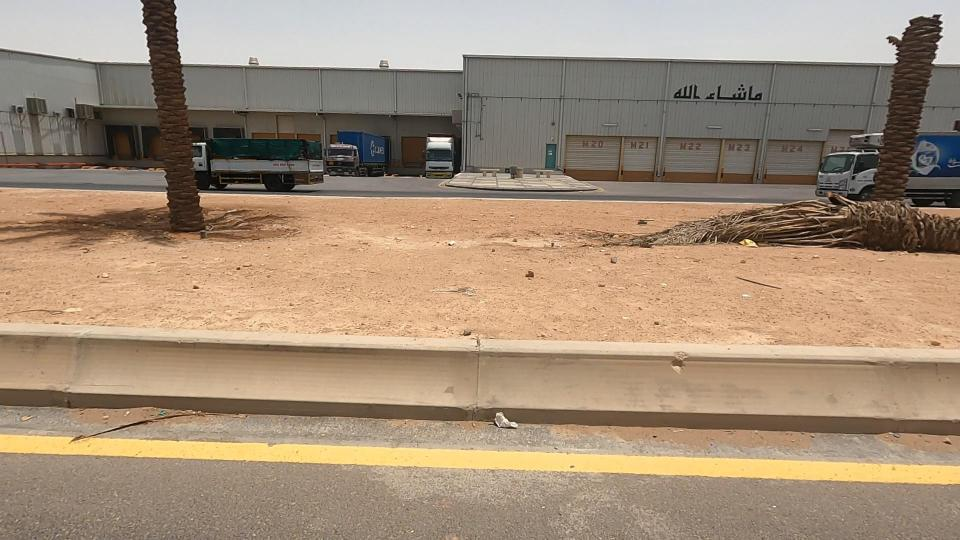CLUTTER_SIDEWALK: (109, 138, 960, 398), (0, 146, 364, 348)
GARBAGE: (685, 198, 809, 286)
